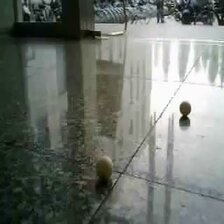w: (96, 154, 113, 179), (180, 101, 192, 116)
